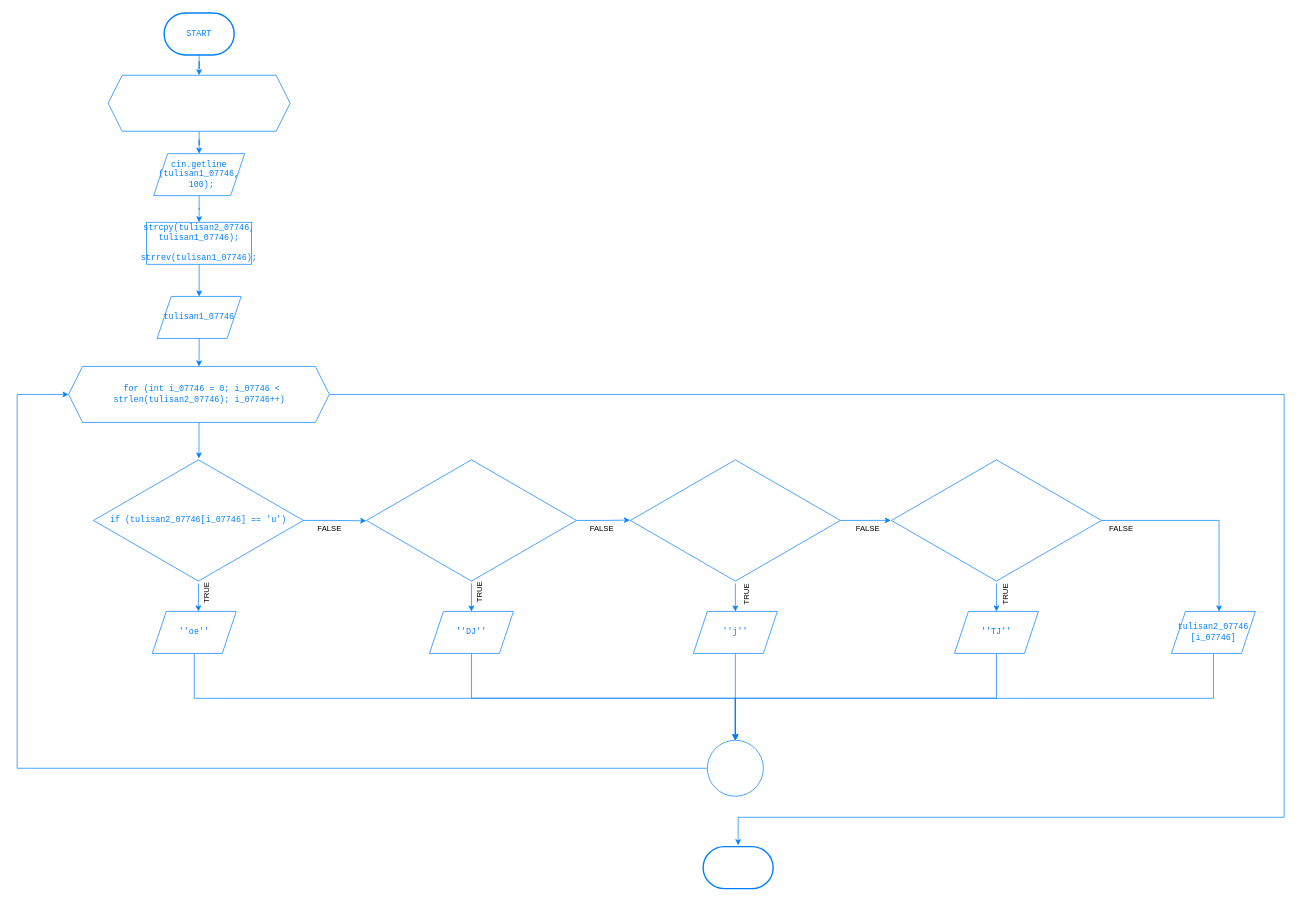
This 1302x901 diagram has some shape labels left out. Each missing label, with the centre of its shape:
char tulisan1_07746[100], tulisan2_07746[100];: the point at 198,103
else if (tulisan2_07746[i_07746] == 'C'): the point at 996,520
else if (tulisan2_07746[i_07746] == 'J'): the point at 471,520
else if (tulisan2_07746[i_07746] == 'y'): the point at 735,520
END: the point at 738,867
